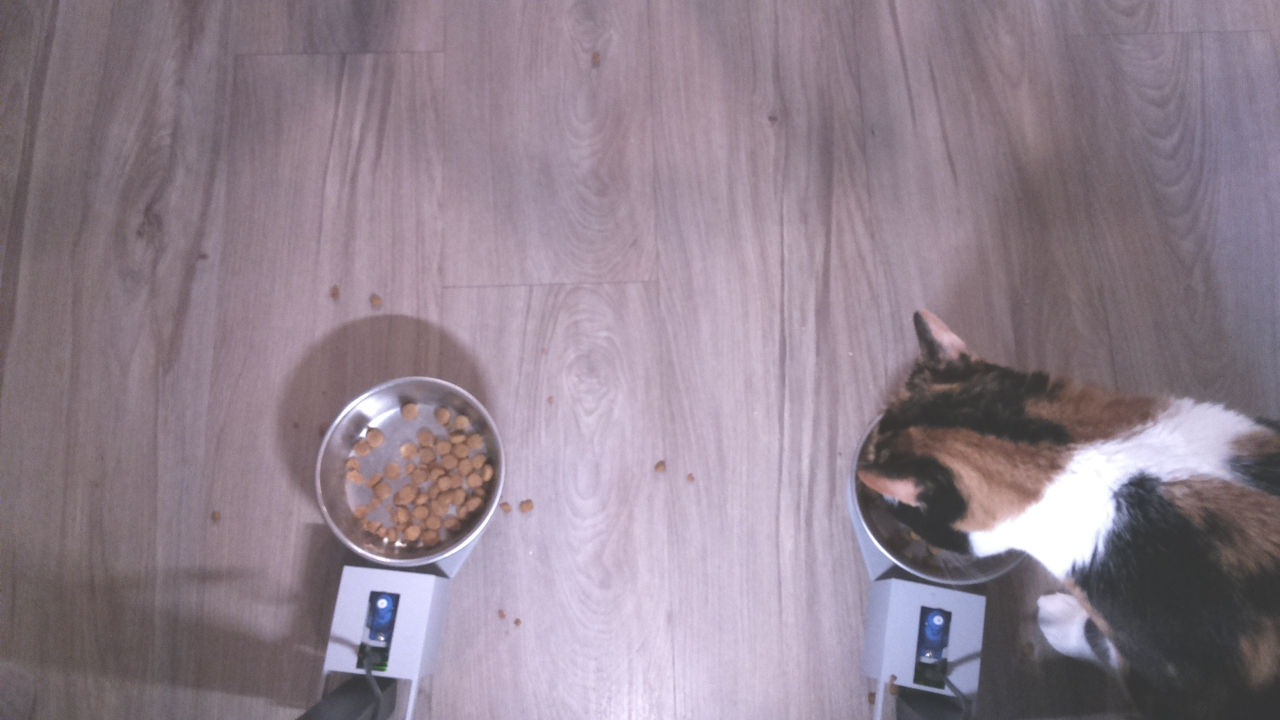bella_eating: (859, 306, 1125, 594)
open_bowl: (311, 371, 508, 576)
